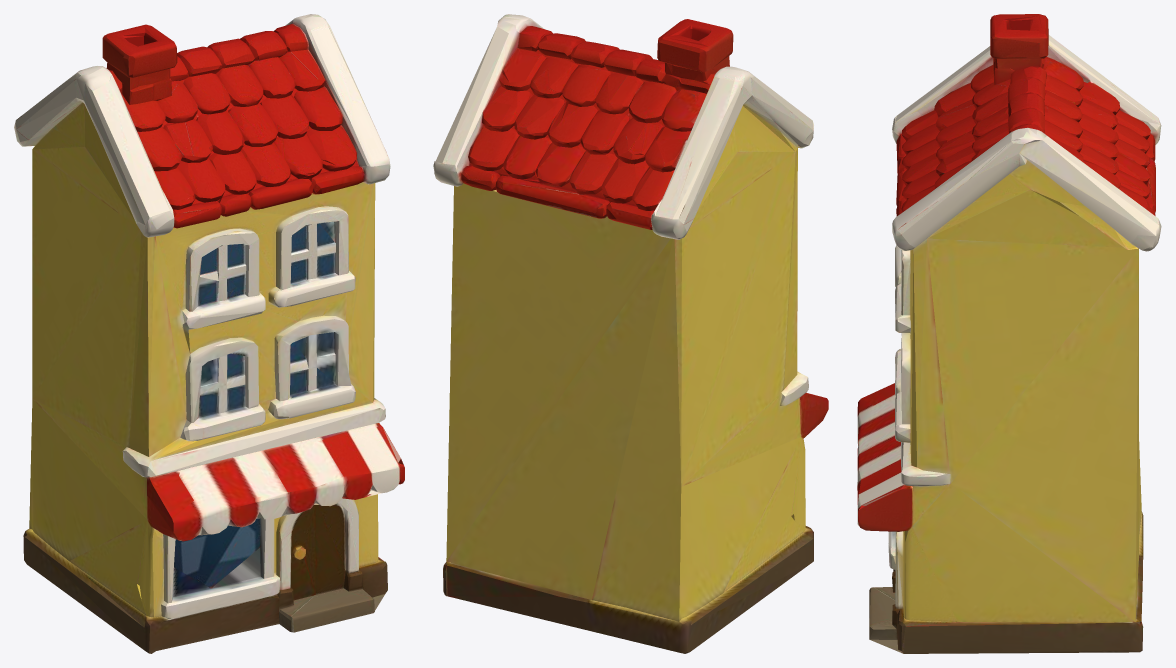
Rendered from by-hus-gul.glb.
3 renders of one model, left to right at view 1: azimuth 30°, elevation 25°; view 2: azimuth 150°, elevation 25°; view 3: azimuth 270°, elevation 25°, orthographic. The views are drawn at different scales.
Size of the model in its own units: 0.8786 by 1.9 by 0.9674.
Materials: 1 (1 with a texture image).
